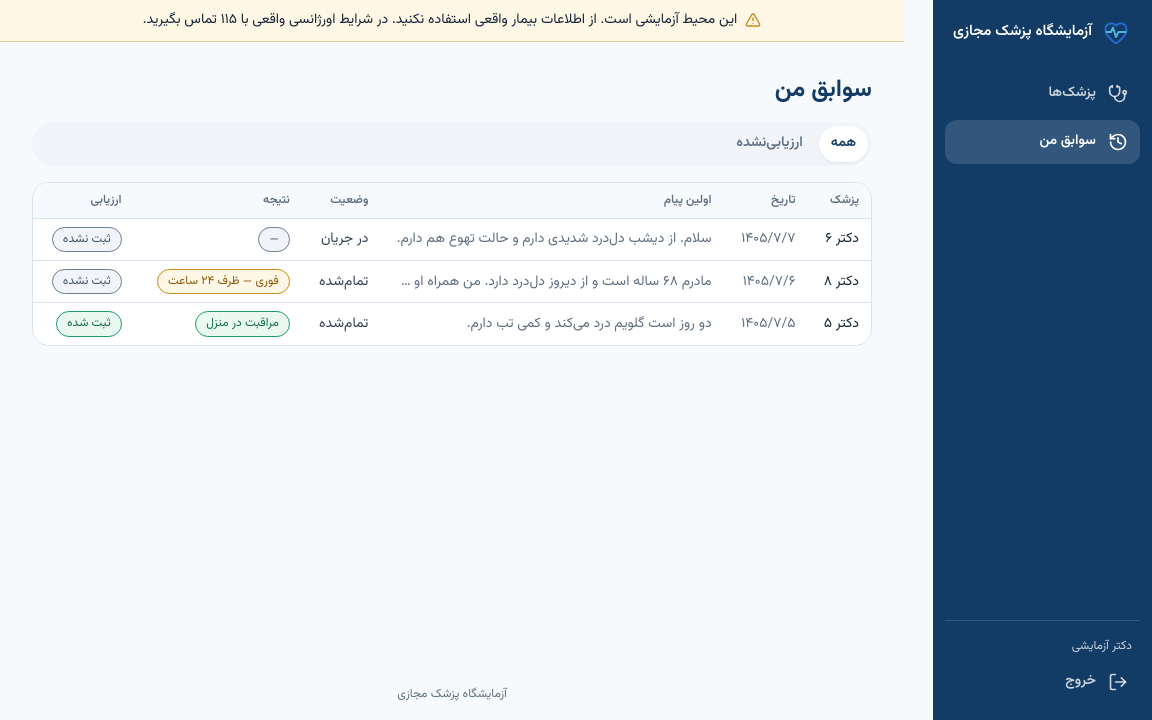
Test: my sessions › filters with the ارزیابی‌نشده tab
expect the table with test id "history-table" is shown: met, box [33,183,871,345]
expect the number of links with test id "history-row" is 3: met, box [33,219,871,261]; [33,261,871,303]; [33,303,871,345]
Click the tab "ارزیابی‌نشده" at coordinates (770, 144), box [724,126,815,162]
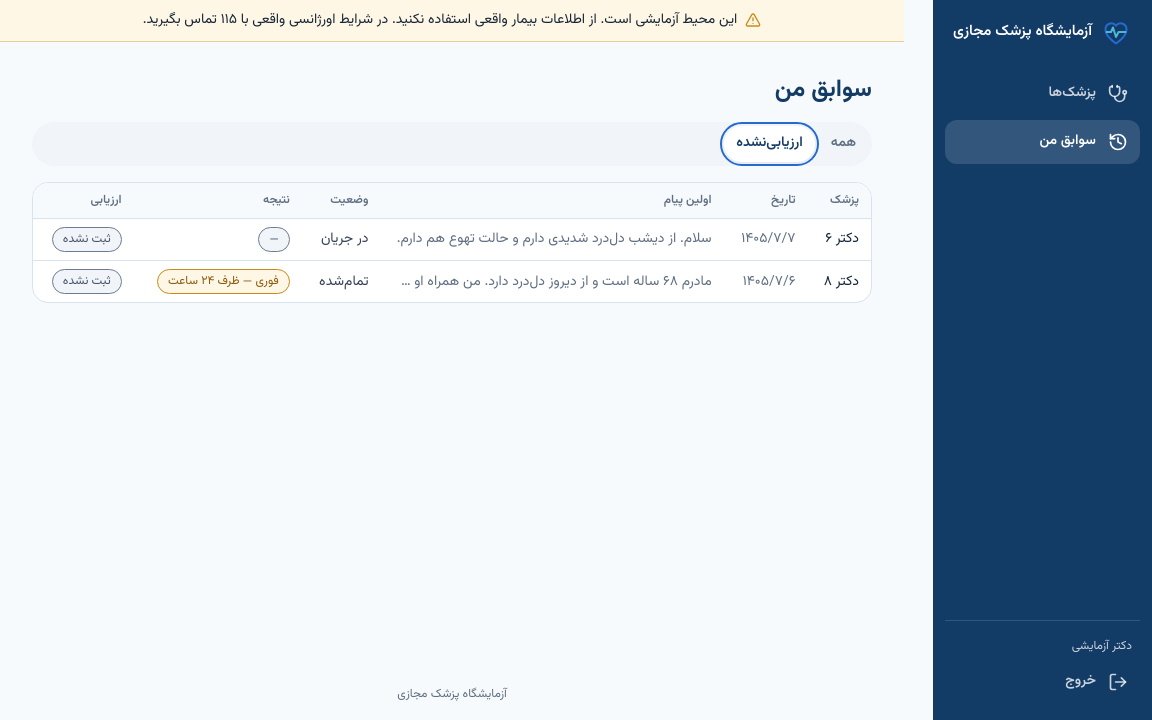
expect the number of links with test id "history-row" is 2: met, box [33,219,871,261]; [33,261,871,302]
expect the link "ثبت شده" is gone: met
Click the tab "همه" at coordinates (843, 144), box [819,126,868,162]
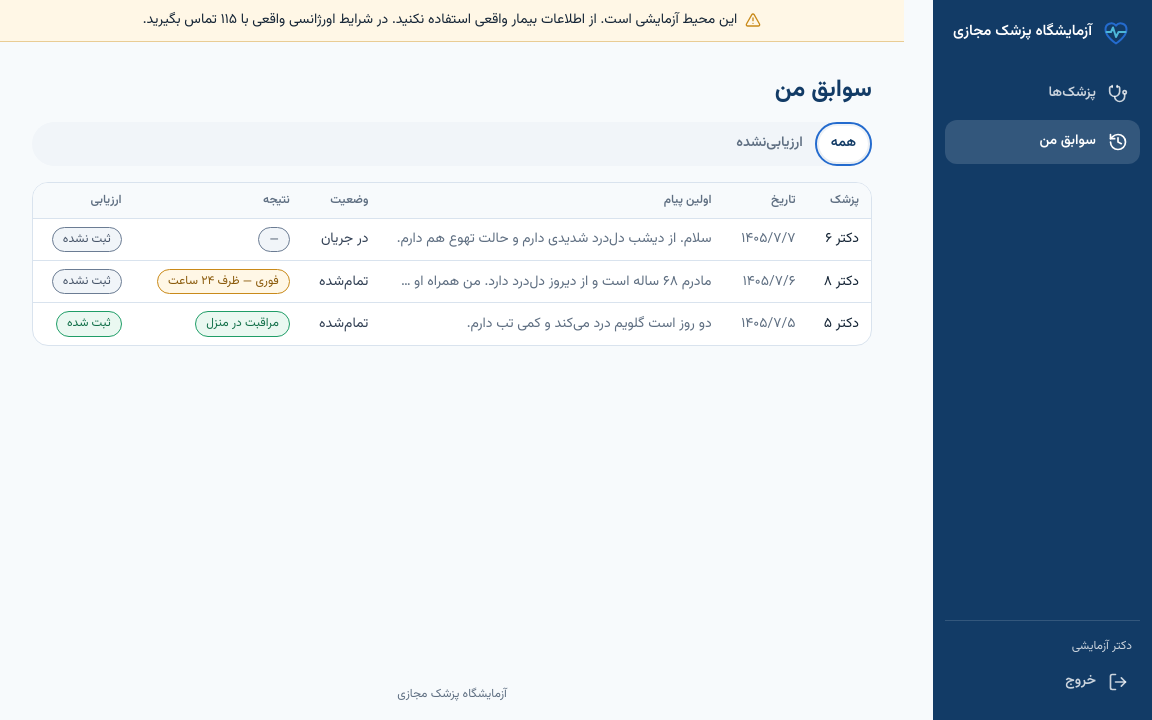
expect the number of links with test id "history-row" is 3: met, box [33,219,871,261]; [33,261,871,303]; [33,303,871,345]
